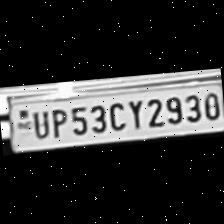0: (200, 88, 222, 122)
2: (142, 95, 166, 130)
3: (86, 101, 108, 136), (180, 90, 202, 124)
5: (66, 102, 90, 138)
9: (161, 92, 183, 128)
C: (104, 98, 128, 133)
P: (46, 105, 68, 139)
U: (28, 106, 50, 140)
Y: (125, 97, 144, 131)
